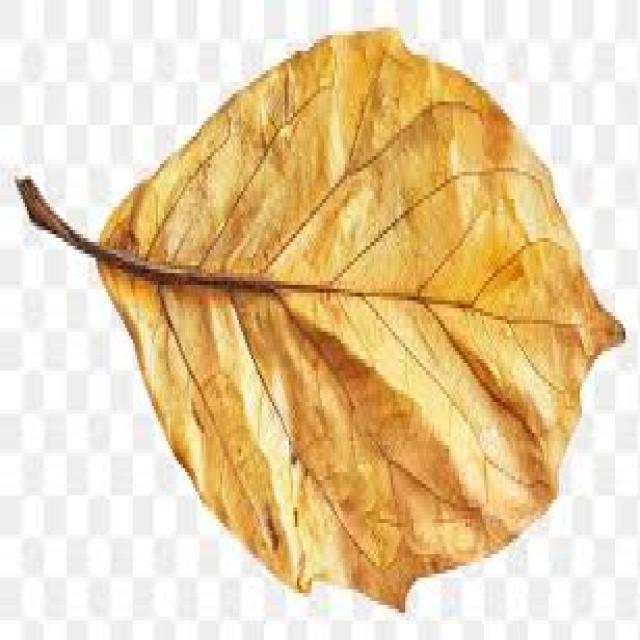leaf: (14, 26, 626, 613)
